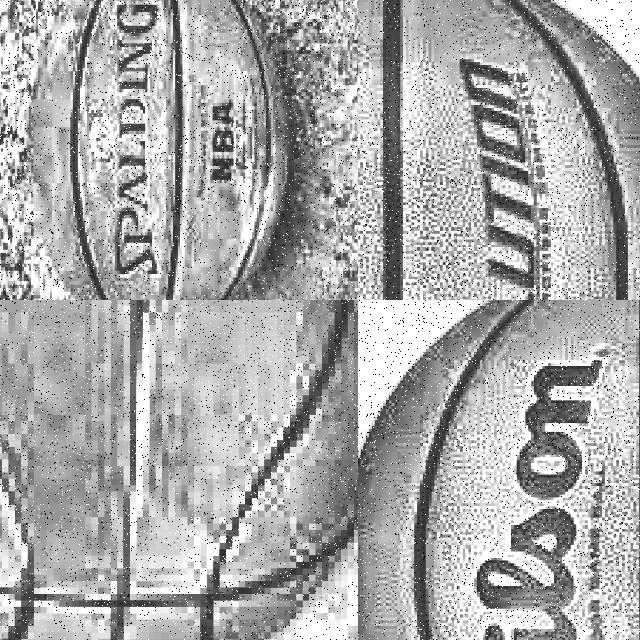Basketball: (358, 300, 640, 640), (358, 0, 640, 300), (26, 0, 288, 300)
